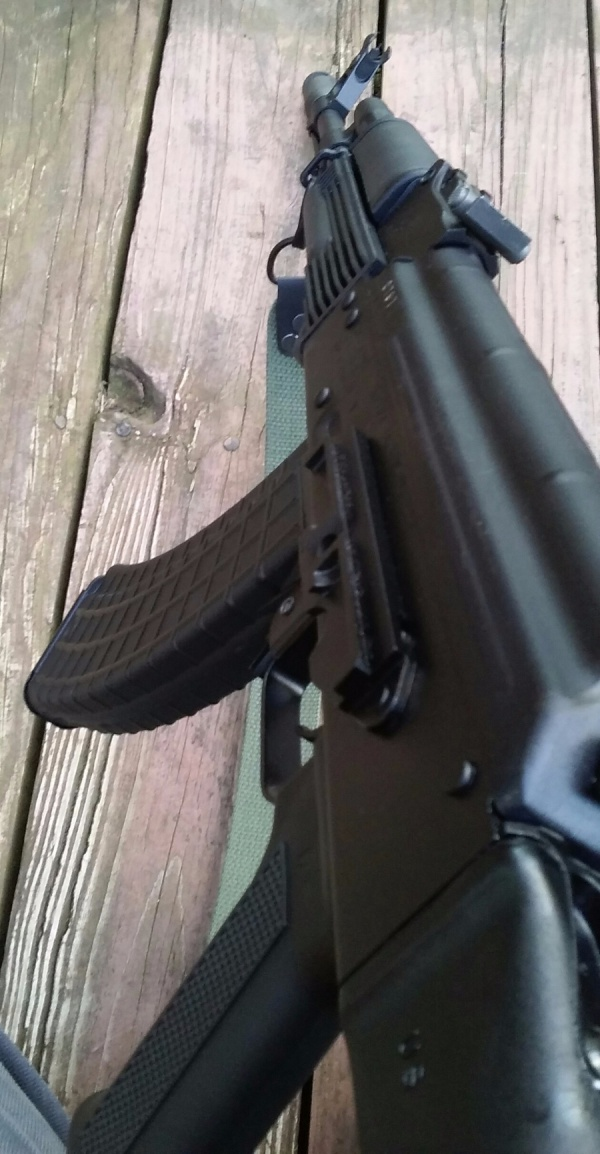ak47: (30, 33, 600, 1154)
